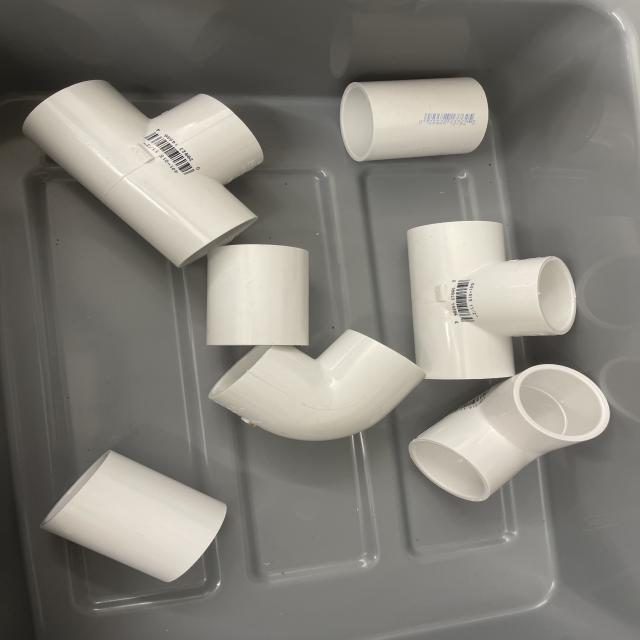L Joint: (216, 331, 424, 442)
T Joint: (22, 80, 265, 270), (405, 221, 574, 382)
